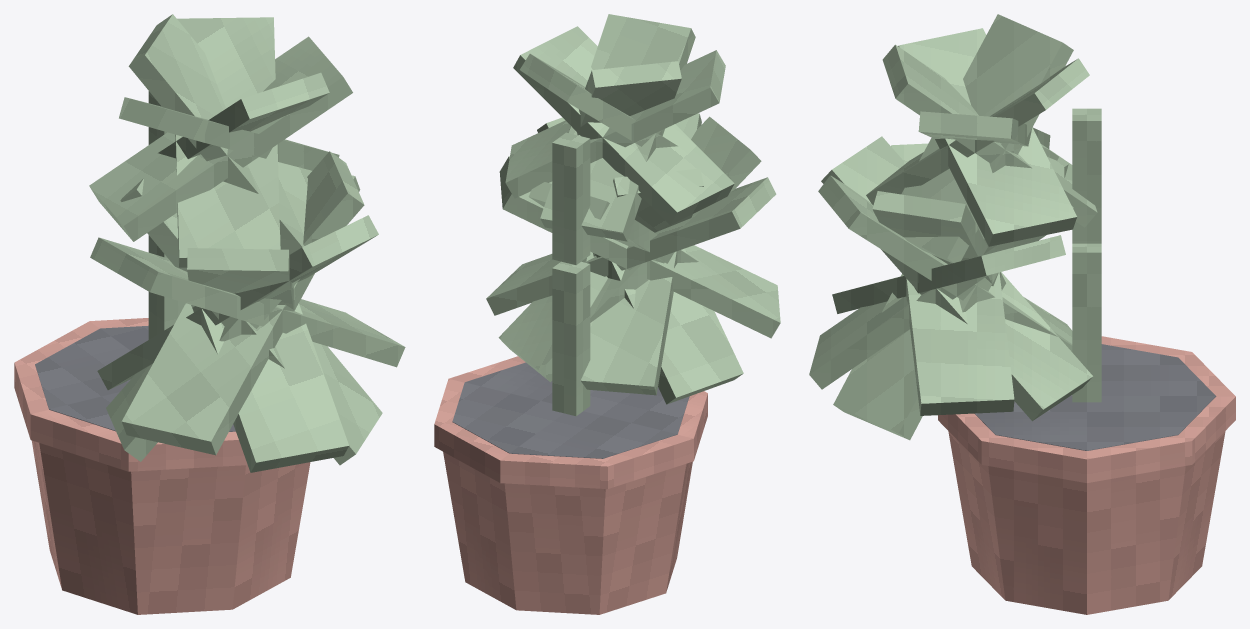
File: pixel-modern-apartments-standing-plant-9d90c444__29825.glb
The picture shows the model from 3 angles, left to right: view 1: azimuth 30°, elevation 25°; view 2: azimuth 150°, elevation 25°; view 3: azimuth 270°, elevation 25°; orthographic projection. The views are drawn at different scales.
Parts seen in each view (by area): view 1: standing-plant; view 2: standing-plant; view 3: standing-plant.
Boxes of the visible parts, box(x1,y1,x2,y2) form: standing-plant: box(14, 14, 405, 614); standing-plant: box(434, 14, 780, 614); standing-plant: box(809, 14, 1235, 614).
Bounding box in the file's own units: 0.5267 × 0.9784 × 0.729.
Materials: 3 (3 with a texture image).
